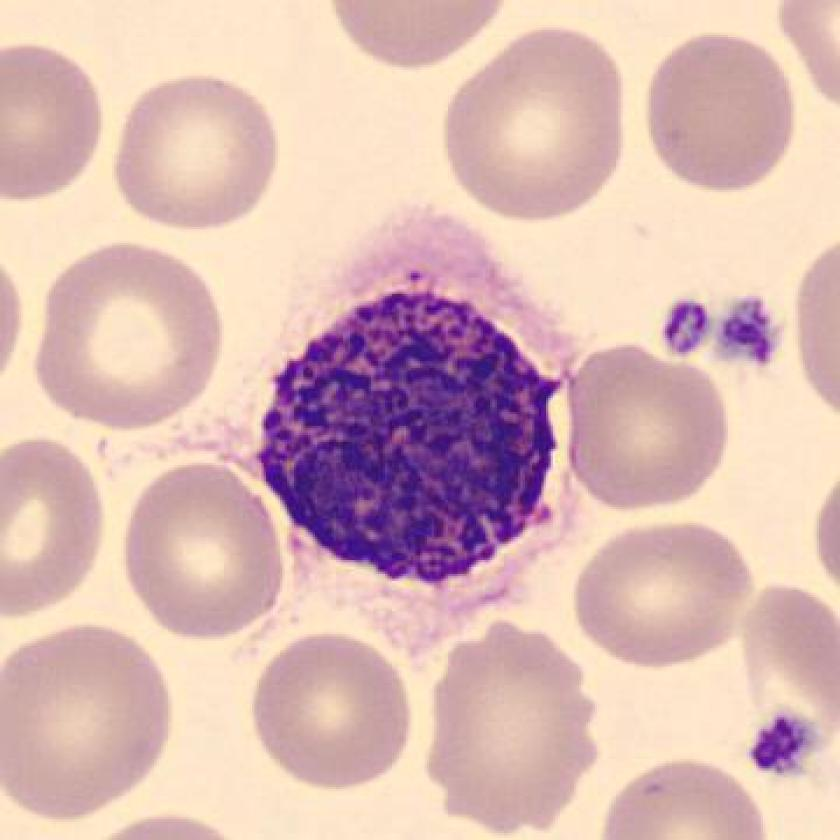basophil: (246, 274, 568, 610)
